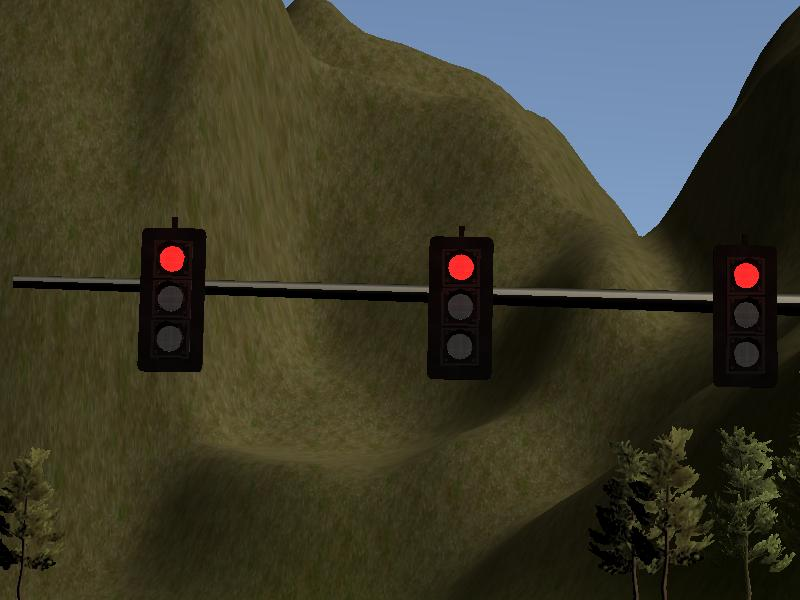red: (139, 227, 204, 374), (427, 235, 492, 382), (711, 244, 776, 391)
